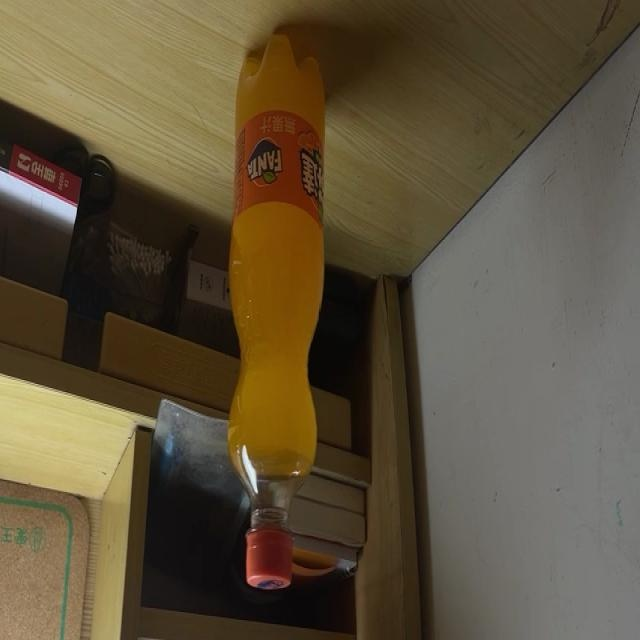Fanta: (228, 30, 324, 594)
